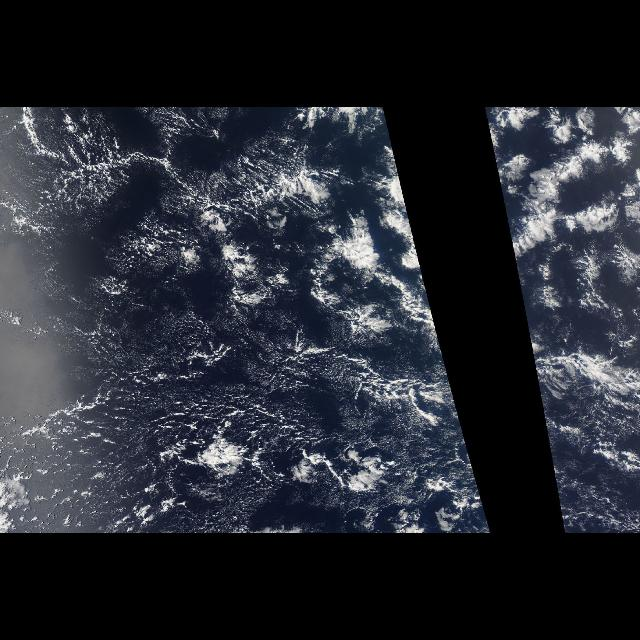Fish: (41, 132, 363, 232)
Flower: (515, 123, 635, 244)
Gravel: (2, 377, 195, 533)
Sugar: (65, 254, 419, 530)
